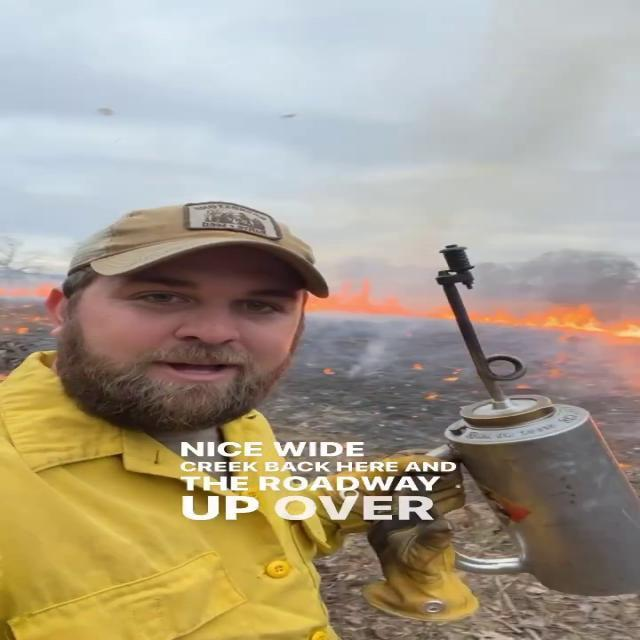Fire: (466, 295, 640, 339), (302, 274, 405, 318)
